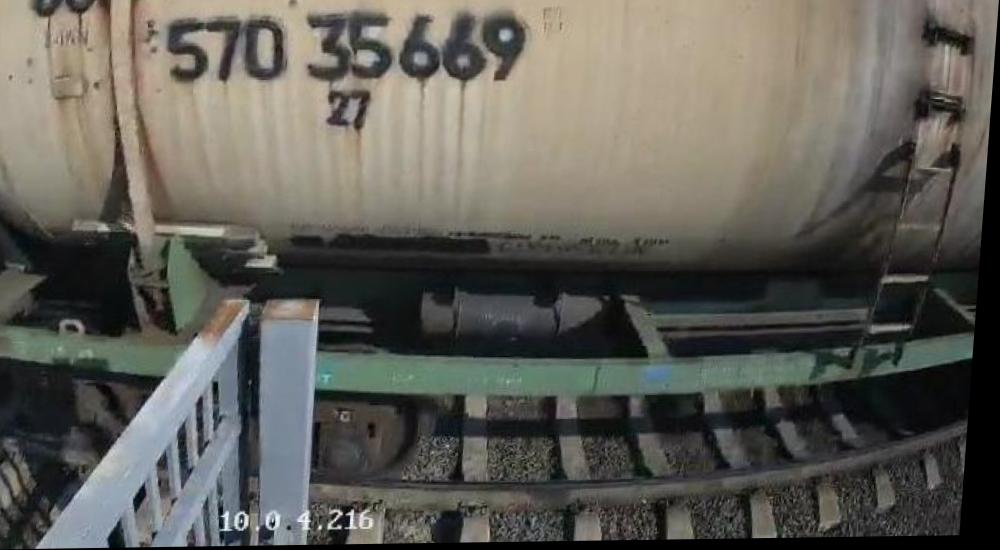Wagon-number: (161, 11, 532, 92)
